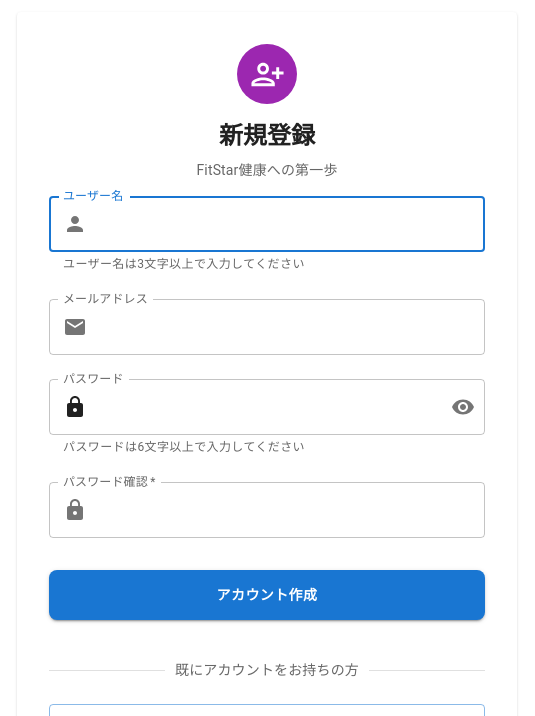
Test case: Register Component › 🔒 パスワードが一致しない場合、エラーメッセージが表示される
This screenshot has width=535, height=716.
Type "testuser" into the field labelled "ユーザー名" at [290, 224], box top-left (95, 196), bottom-right (485, 252)
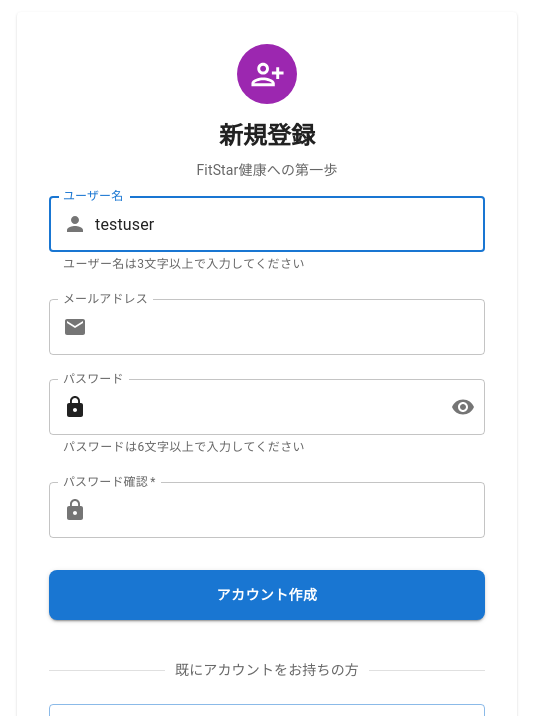
Type "test@example.com" into the field labelled "メールアドレス" at [290, 327], box top-left (95, 299), bottom-right (485, 355)
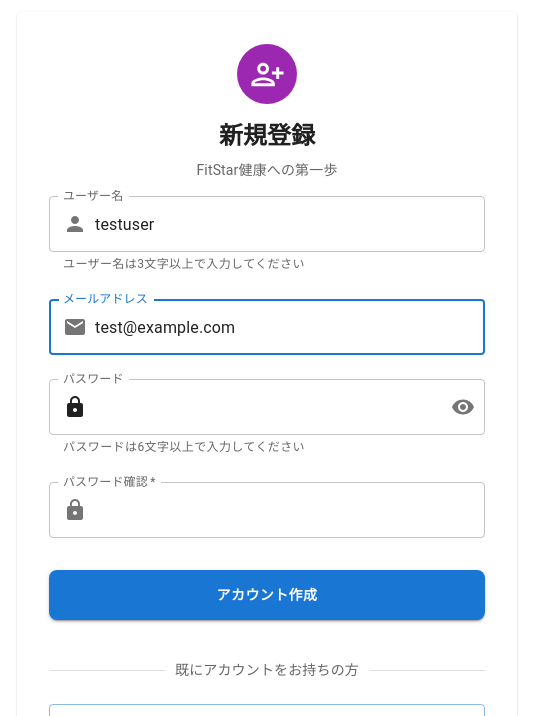
Type "password123" into the password field labelled "パスワード" at [269, 407], box top-left (95, 379), bottom-right (443, 435)
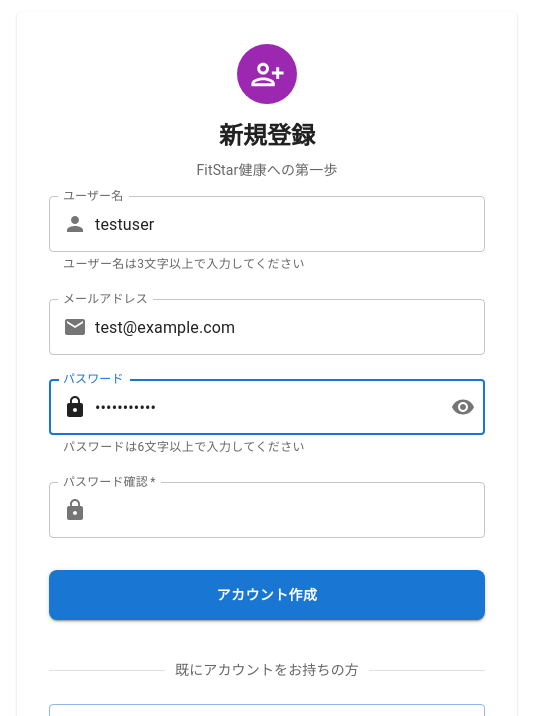
Type "password456" into the password field labelled "パスワード確認 *" at [290, 510], box top-left (95, 482), bottom-right (485, 538)
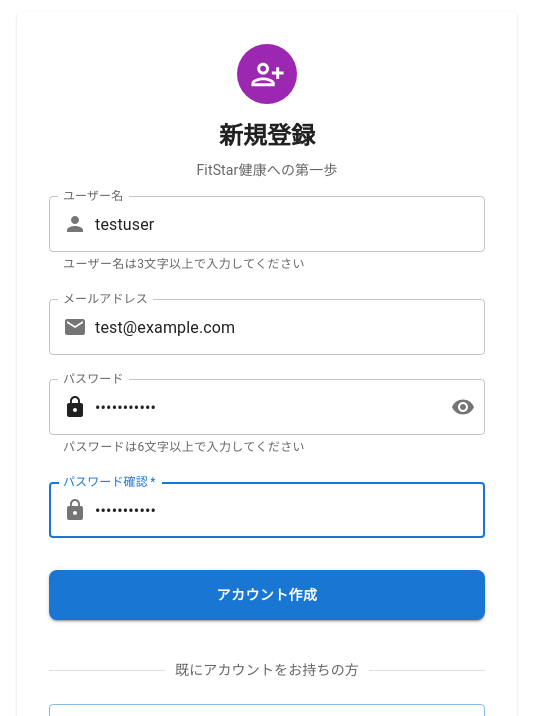
Click the button "アカウント作成" at [267, 595], box top-left (49, 570), bottom-right (485, 620)
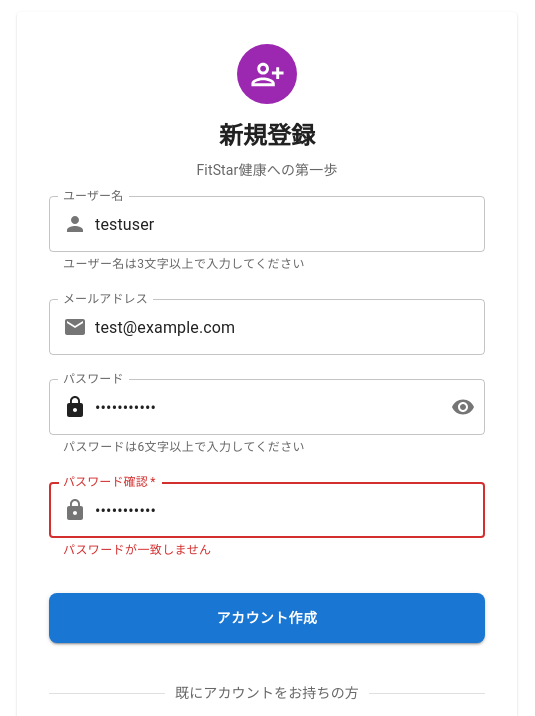
Check: the text "パスワードが一致しません" is shown, box top-left (63, 543), bottom-right (212, 557)
